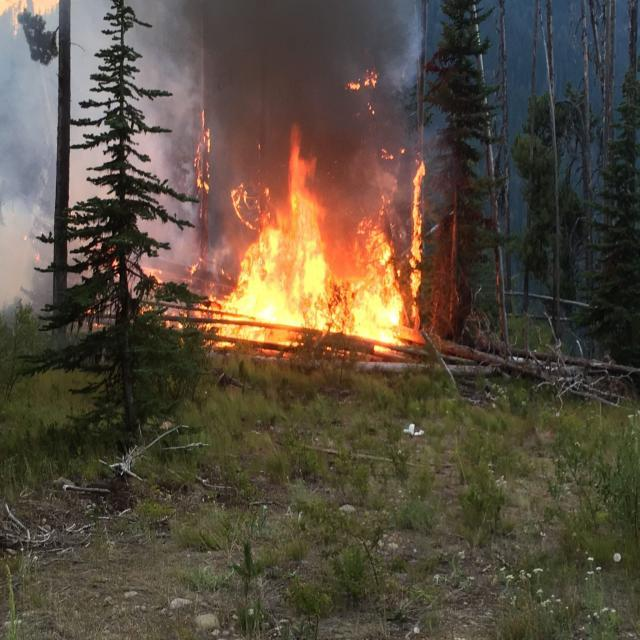Fire: (246, 194, 407, 348)
Smoke: (195, 2, 404, 195)
